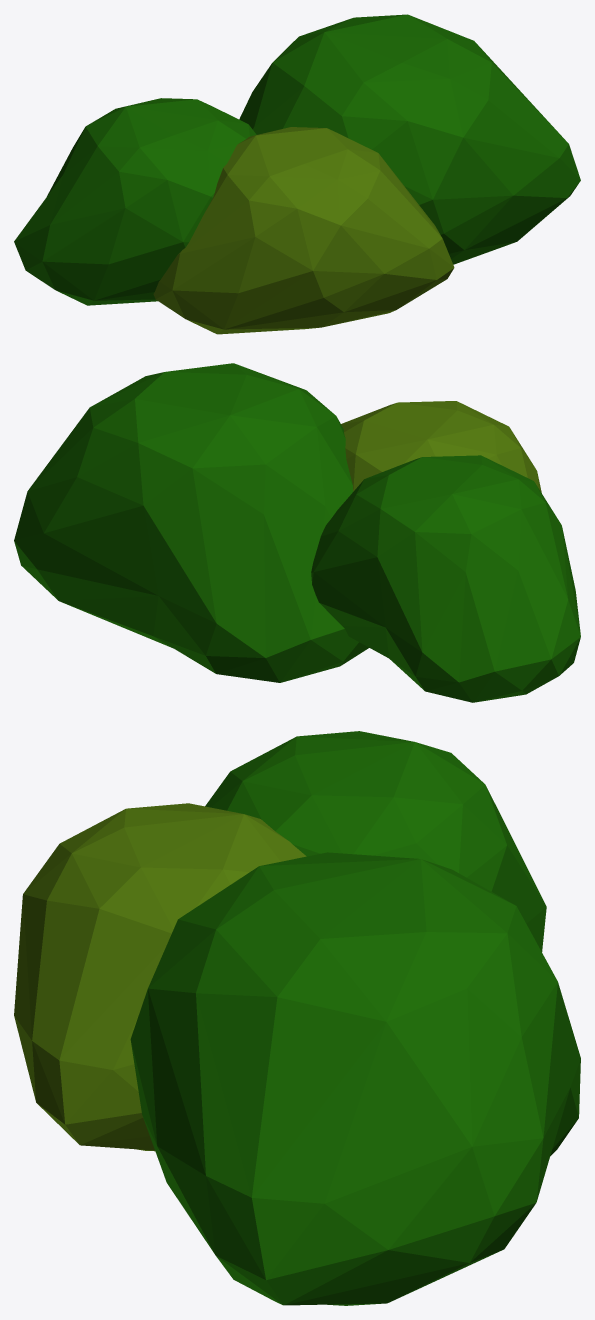
The model's file is LowPolyBush1.fbx.
3 views of the same model, one above another, from view 1: azimuth 30°, elevation 25°; view 2: azimuth 150°, elevation 25°; view 3: azimuth 270°, elevation 25° (orthographic). The views are drawn at different scales.
Visible parts, largest first — view 1: Icosphere, Icosphere.002, Icosphere.001; view 2: Icosphere, Icosphere.001, Icosphere.002; view 3: Icosphere, Icosphere.002, Icosphere.001.
Boxes of the visible parts, x1,y1,x2,y2 form: Icosphere: (239,14,580,264); Icosphere.002: (153,127,454,334); Icosphere.001: (14,98,256,305); Icosphere: (14,363,369,682); Icosphere.001: (311,455,580,702); Icosphere.002: (341,401,541,493); Icosphere: (130,852,580,1305); Icosphere.002: (14,803,306,1151); Icosphere.001: (205,731,546,951).
Size of the model in its own units: 4.29 by 2.6 by 1.85.
